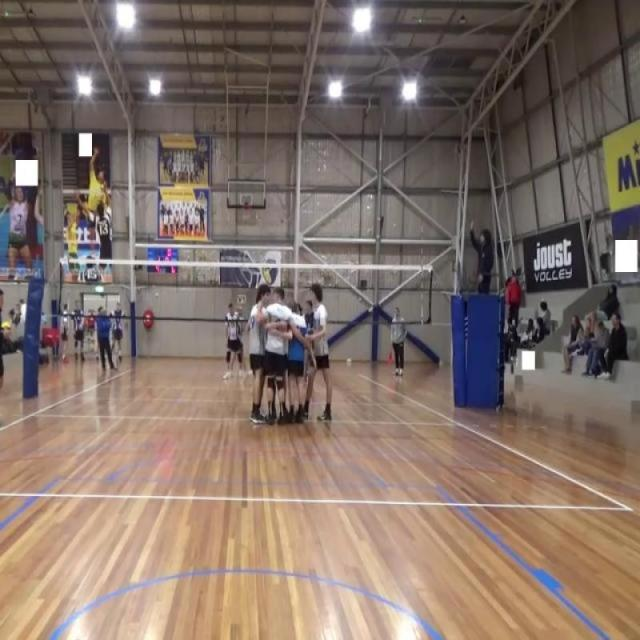volleyball: (1, 320, 12, 337)
